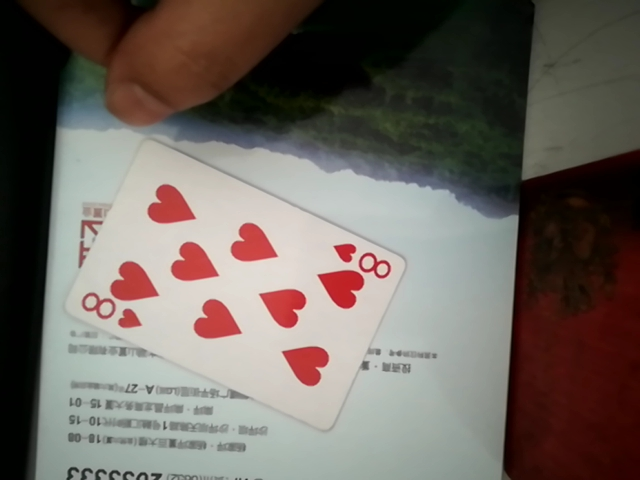hx 8: (60, 139, 401, 423)
